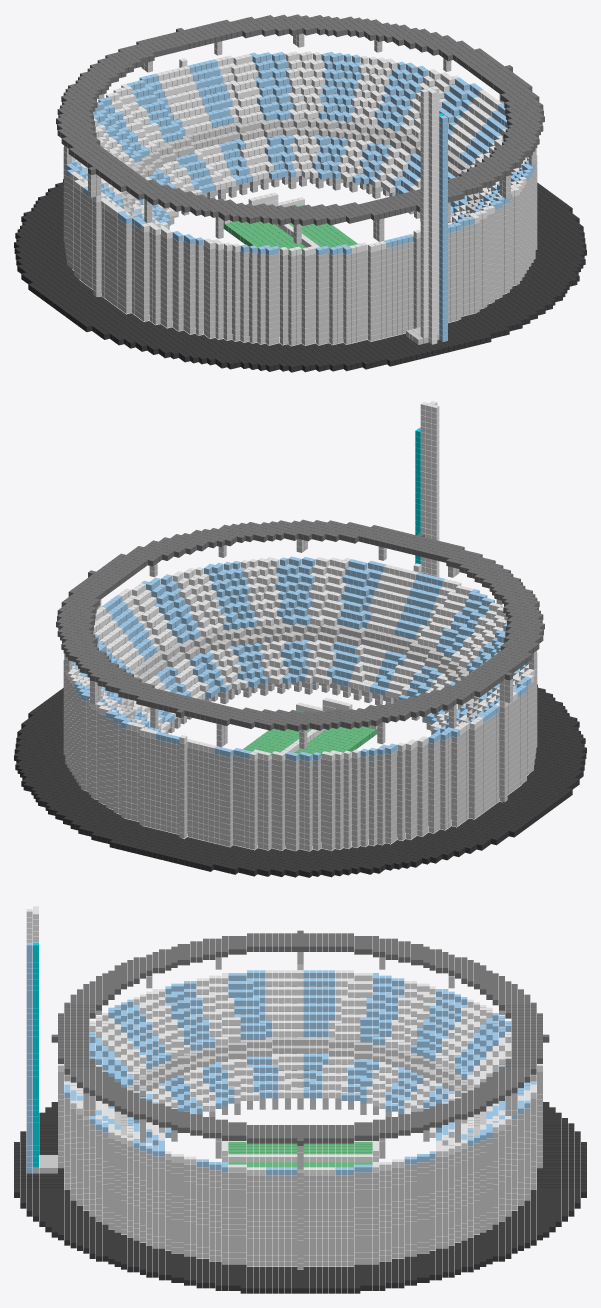
The model's file is cilindro.fbx.
3 renders of one model, top to bottom at view 1: azimuth 30°, elevation 25°; view 2: azimuth 150°, elevation 25°; view 3: azimuth 270°, elevation 25°, orthographic. The views are drawn at different scales.
Parts seen in each view (by area): view 1: Voxel_Concrete, Voxel_White, Voxel_SkyBlue, Voxel_Black, Voxel_Grey, Voxel_Grass; view 2: Voxel_Concrete, Voxel_White, Voxel_Black, Voxel_Grey, Voxel_SkyBlue, Voxel_Grass, Voxel_Glass; view 3: Voxel_Concrete, Voxel_White, Voxel_SkyBlue, Voxel_Grey, Voxel_Black, Voxel_Grass, Voxel_Glass.
Boxes of the visible parts, x1=… form: Voxel_Concrete: x1=63, y1=33, x2=537, y2=345; Voxel_White: x1=63, y1=51, x2=537, y2=344; Voxel_SkyBlue: x1=65, y1=51, x2=535, y2=341; Voxel_Black: x1=14, y1=179, x2=586, y2=372; Voxel_Grey: x1=56, y1=14, x2=544, y2=225; Voxel_Grass: x1=223, y1=204, x2=357, y2=250; Voxel_Concrete: x1=63, y1=539, x2=537, y2=851; Voxel_White: x1=65, y1=401, x2=535, y2=766; Voxel_Black: x1=14, y1=684, x2=586, y2=877; Voxel_Grey: x1=56, y1=519, x2=544, y2=731; Voxel_SkyBlue: x1=63, y1=427, x2=537, y2=768; Voxel_Grass: x1=243, y1=710, x2=377, y2=756; Voxel_Glass: x1=415, y1=428, x2=420, y2=564; Voxel_Concrete: x1=33, y1=952, x2=542, y2=1269; Voxel_White: x1=26, y1=906, x2=542, y2=1175; Voxel_SkyBlue: x1=26, y1=942, x2=536, y2=1175; Voxel_Grey: x1=51, y1=930, x2=549, y2=1146; Voxel_Black: x1=14, y1=1070, x2=586, y2=1293; Voxel_Grass: x1=228, y1=1141, x2=372, y2=1167; Voxel_Glass: x1=33, y1=942, x2=38, y2=1167.
Size of the model in its own units: 4548 by 2298 by 4548.
